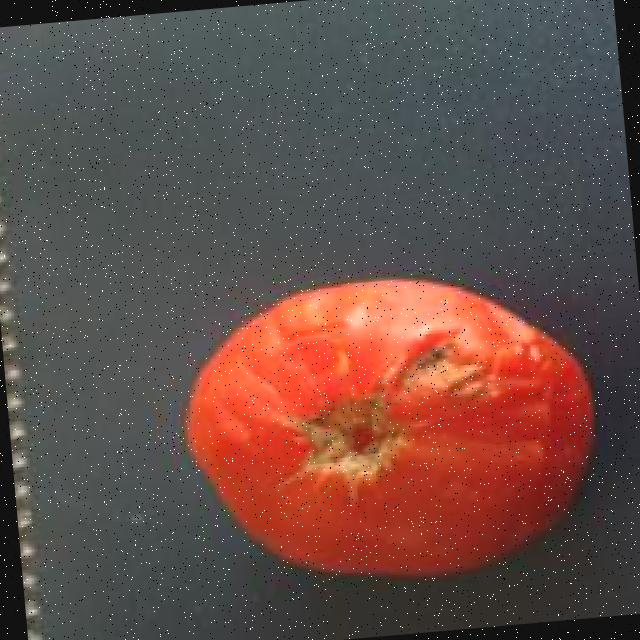overripe: (166, 256, 612, 597)
